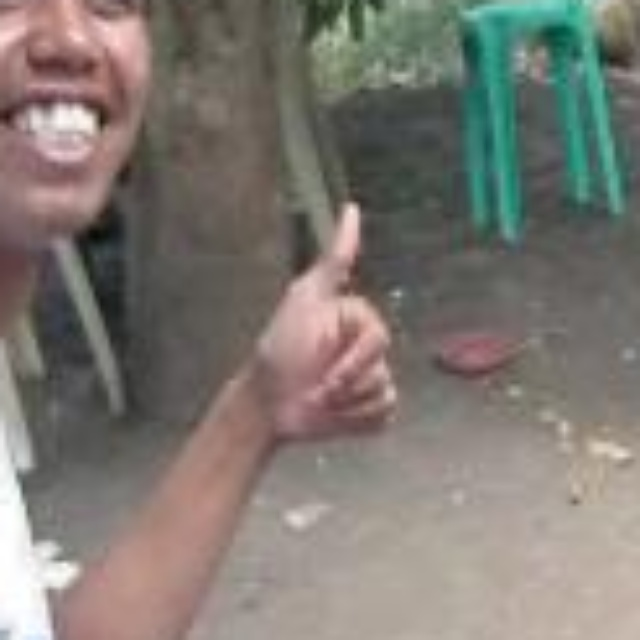thumbs_up: (236, 187, 404, 453)
